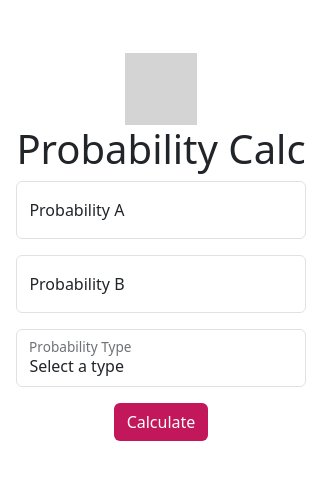
Test: CalculatorCalculateProbability Component › shows validation error for Probability Type field
Attempt to submit without selecting a type
Click the button "Calculate" at (161, 422), box [114,403,208,441]
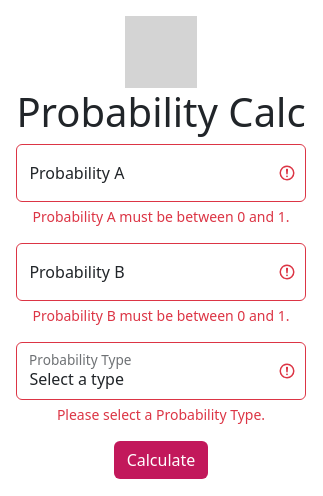
expect the text "Please select a Probability Type." is shown: met, box [57,404,265,424]
